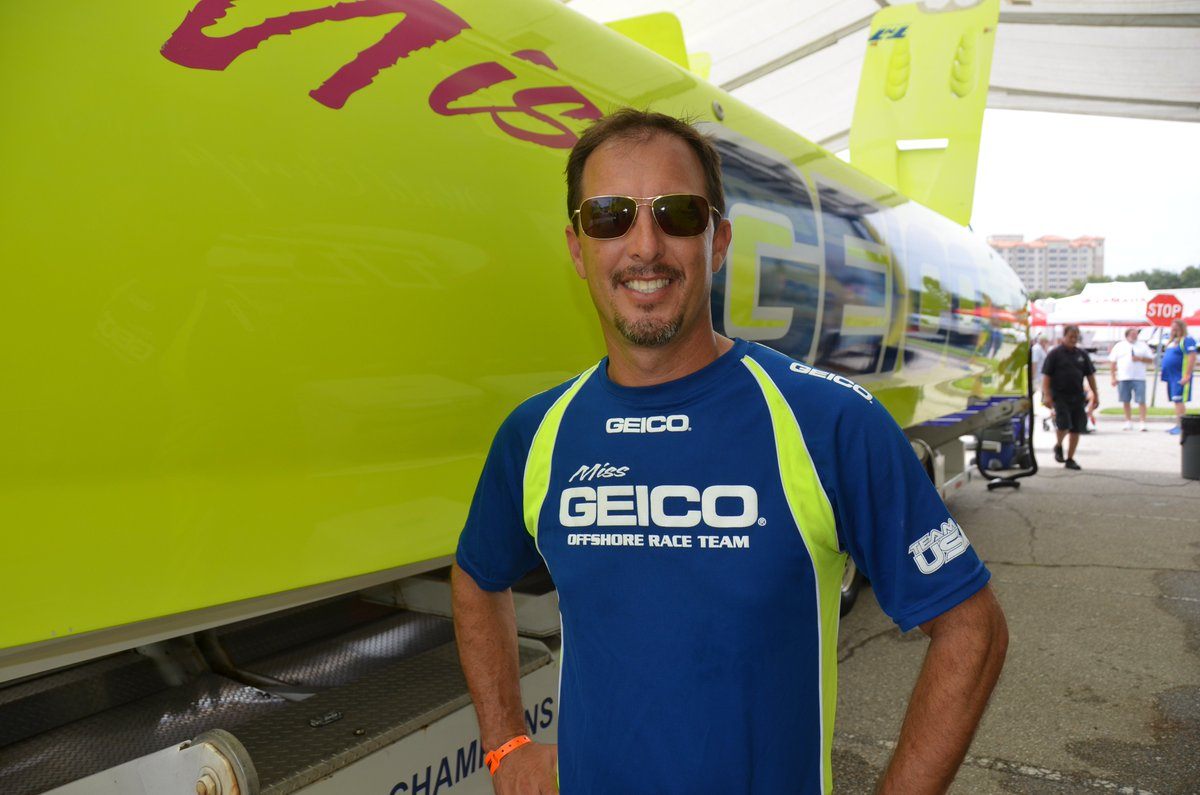geico: (552, 475, 768, 550), (609, 415, 687, 436)
